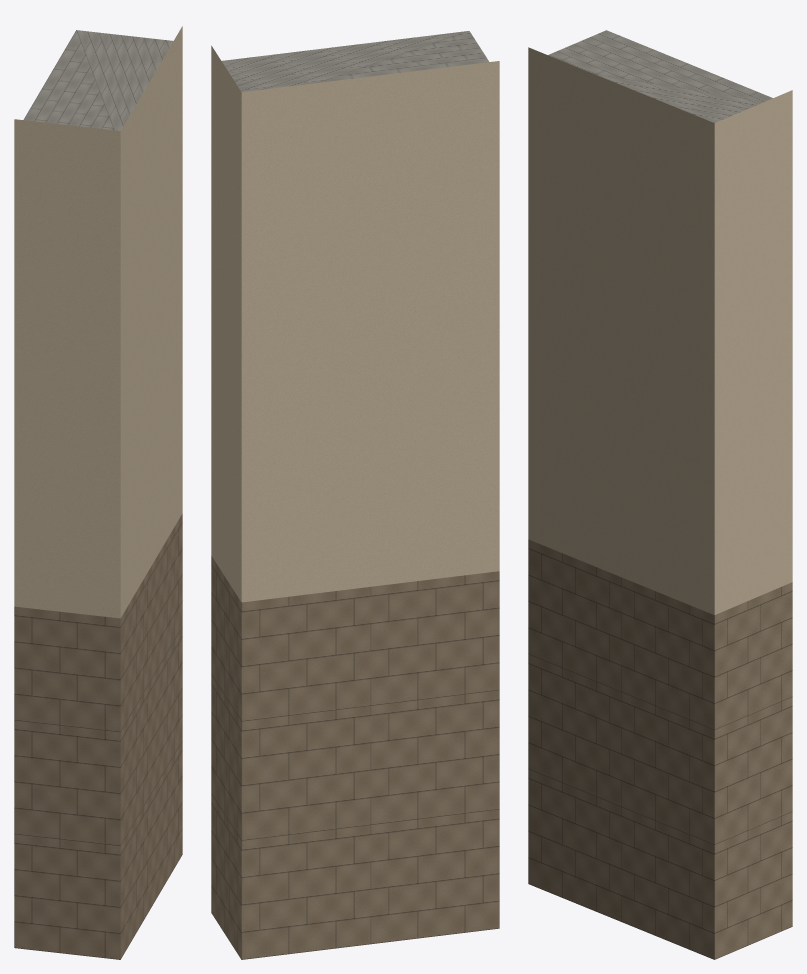
The model's file is bld_c11_11_500.gltf.
3 renders of one model, left to right at view 1: azimuth 30°, elevation 25°; view 2: azimuth 150°, elevation 25°; view 3: azimuth 270°, elevation 25°, orthographic. The views are drawn at different scales.
Parts seen in each view (by area): view 1: bld_c11_11_500; view 2: bld_c11_11_500; view 3: bld_c11_11_500.
Boxes of the visible parts, x1,y1,x2,y2 form: bld_c11_11_500: (14, 26, 182, 959); bld_c11_11_500: (211, 31, 499, 959); bld_c11_11_500: (528, 30, 792, 959).
Size of the model in its own units: 3.46 by 12.38 by 3.55.
Materials: 4 (4 with a texture image).
